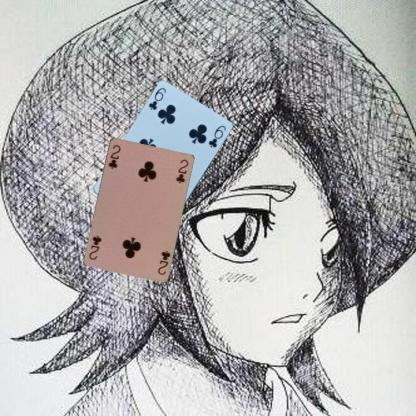2c: (154, 247, 172, 276), (106, 142, 122, 170)
6c: (146, 86, 168, 112)
